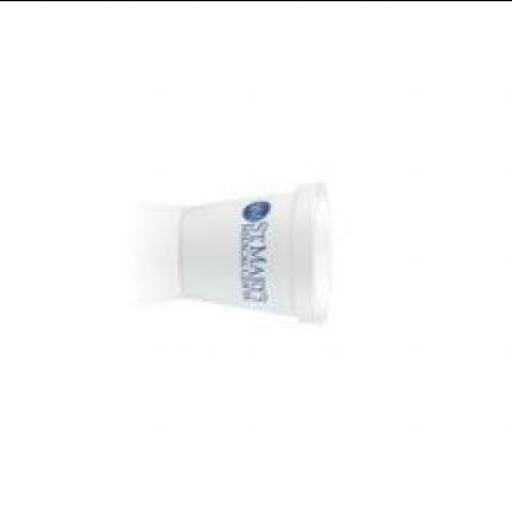paper: (180, 182, 332, 316)
